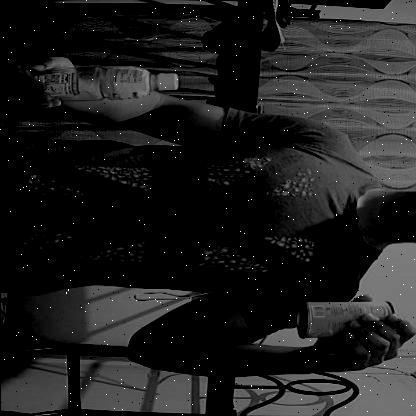Plastic Bottle: (0, 58, 181, 112)
